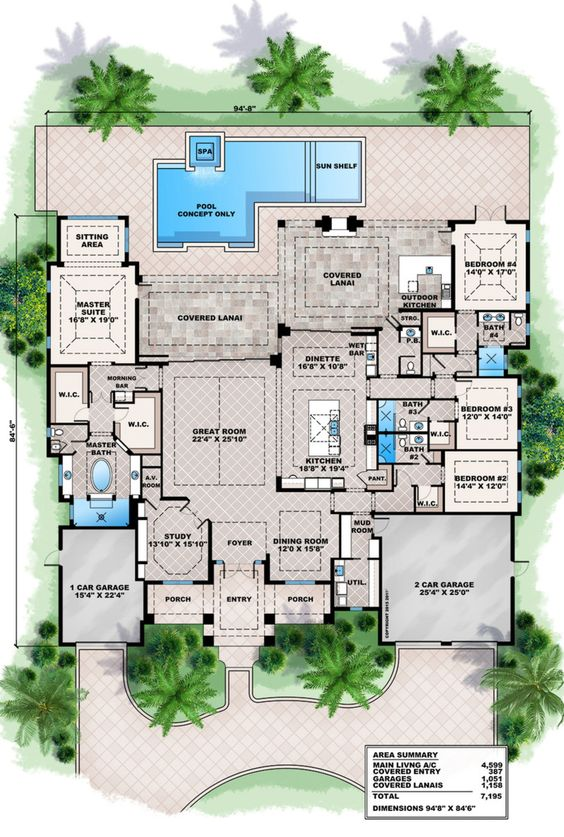wall: (371, 512, 516, 515), (377, 539, 381, 646), (313, 214, 333, 235), (57, 564, 62, 645), (345, 214, 364, 234), (135, 299, 140, 364), (47, 348, 51, 428), (267, 350, 283, 369), (133, 526, 138, 583), (330, 557, 335, 614), (366, 398, 457, 401), (426, 448, 517, 451), (451, 244, 455, 310), (208, 522, 212, 585), (509, 513, 514, 563), (59, 525, 139, 528), (276, 321, 290, 338), (46, 292, 51, 337), (399, 308, 455, 312), (161, 387, 163, 497), (130, 499, 138, 526), (420, 311, 423, 378), (510, 577, 513, 644), (375, 399, 378, 466), (526, 241, 530, 291), (57, 216, 61, 265), (143, 580, 147, 623), (476, 334, 480, 376), (49, 421, 89, 425), (476, 309, 529, 312), (376, 431, 428, 434), (455, 375, 505, 378), (265, 554, 270, 583), (376, 330, 379, 378), (87, 361, 90, 408), (339, 512, 342, 559), (517, 397, 521, 430), (57, 525, 62, 550), (139, 619, 144, 644), (351, 326, 382, 330), (203, 614, 214, 625), (442, 484, 446, 514), (276, 487, 305, 491), (448, 220, 476, 224), (203, 636, 214, 646), (264, 614, 275, 624), (264, 635, 274, 646), (351, 332, 378, 336), (46, 436, 51, 457), (422, 352, 457, 355), (505, 219, 530, 223), (526, 303, 531, 323), (504, 345, 529, 349), (140, 453, 142, 501), (143, 580, 162, 585), (265, 579, 284, 584), (59, 641, 77, 646), (46, 261, 51, 279), (413, 484, 416, 514), (453, 420, 456, 450), (331, 606, 349, 611), (323, 614, 333, 623), (140, 464, 162, 468), (135, 261, 139, 283), (330, 510, 352, 514), (47, 364, 89, 366), (390, 463, 393, 491), (160, 497, 187, 500), (47, 260, 63, 265), (122, 260, 138, 265), (193, 581, 213, 585), (517, 471, 521, 491), (276, 475, 281, 491), (362, 606, 382, 610), (508, 311, 512, 330), (397, 375, 422, 378), (367, 490, 392, 493), (476, 310, 480, 327), (440, 449, 444, 466), (398, 355, 401, 377), (112, 419, 116, 435), (505, 374, 521, 378), (316, 580, 332, 584), (58, 486, 62, 501), (59, 498, 74, 502), (142, 452, 162, 455), (117, 214, 129, 219), (379, 642, 394, 646), (518, 441, 521, 460), (125, 252, 129, 266), (133, 391, 161, 393), (526, 335, 530, 349), (498, 642, 512, 646), (526, 219, 531, 230), (127, 642, 145, 645), (125, 215, 129, 228), (87, 422, 90, 439), (47, 453, 63, 456), (57, 215, 68, 219), (440, 642, 451, 646), (114, 402, 135, 404), (504, 345, 508, 355), (518, 503, 521, 515), (132, 392, 135, 403), (370, 536, 381, 539), (113, 391, 115, 407)
